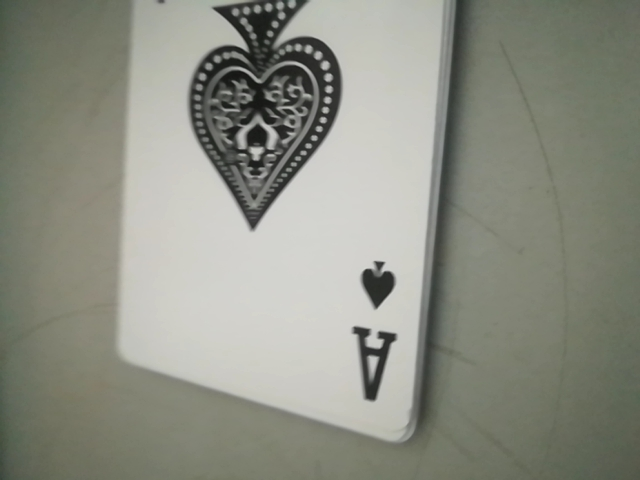ht a: (349, 257, 409, 407)
